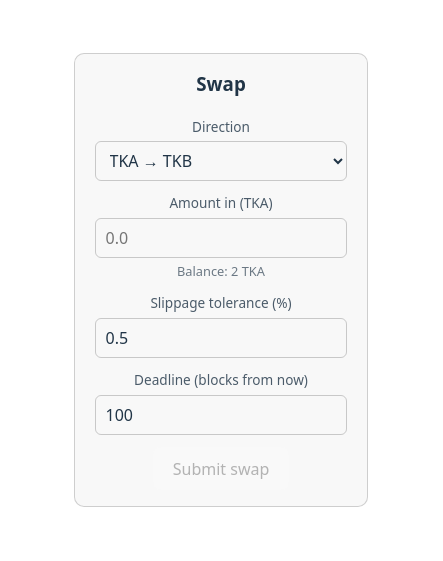
SwapForm › blocks submission when the balance is insufficient
In the field labelled "Amount in (TKA)": (221, 238) [95,218,347,258], type "3"
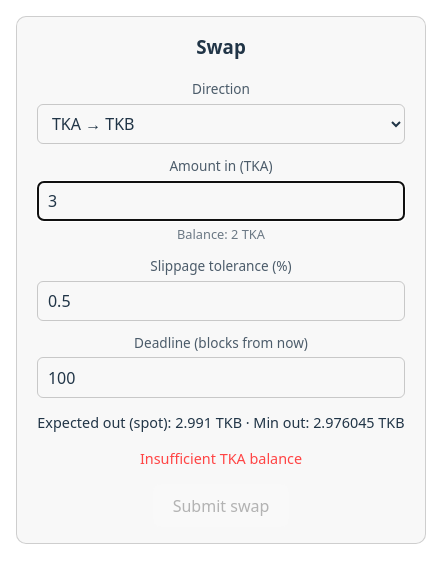
expect the button "Submit swap" is disabled: met, box [152,484,290,527]
expect the message reads "Insufficient TKA balance": met, box [140,449,302,468]
